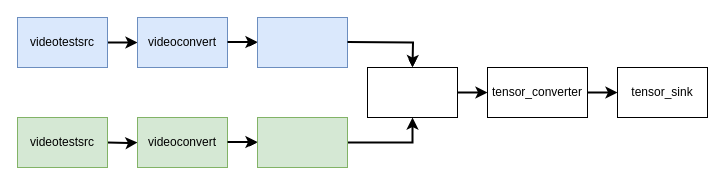
The diagram is 725 pixels wide and 185 high, and some of its shapes have lost their labels. The box of each missing label's shape, as (x1, y1, x2, y2) in pixels:
input-selector: (366, 66, 458, 118)
ins.sink_0: (256, 16, 348, 68)
ins.sink_1: (256, 116, 348, 168)
